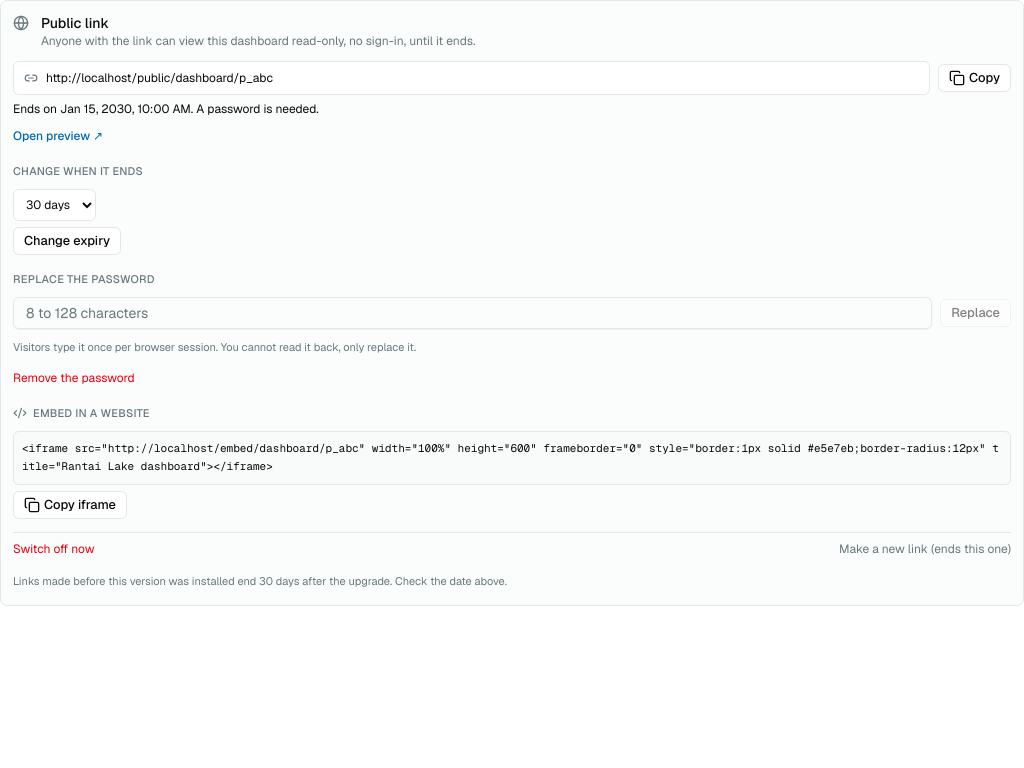
PublicLinkPanel › removes the password with null and keeps the link's own end
Step 1. Click the button "Remove the password" → coordinates (74, 378), box [13,370,135,386]
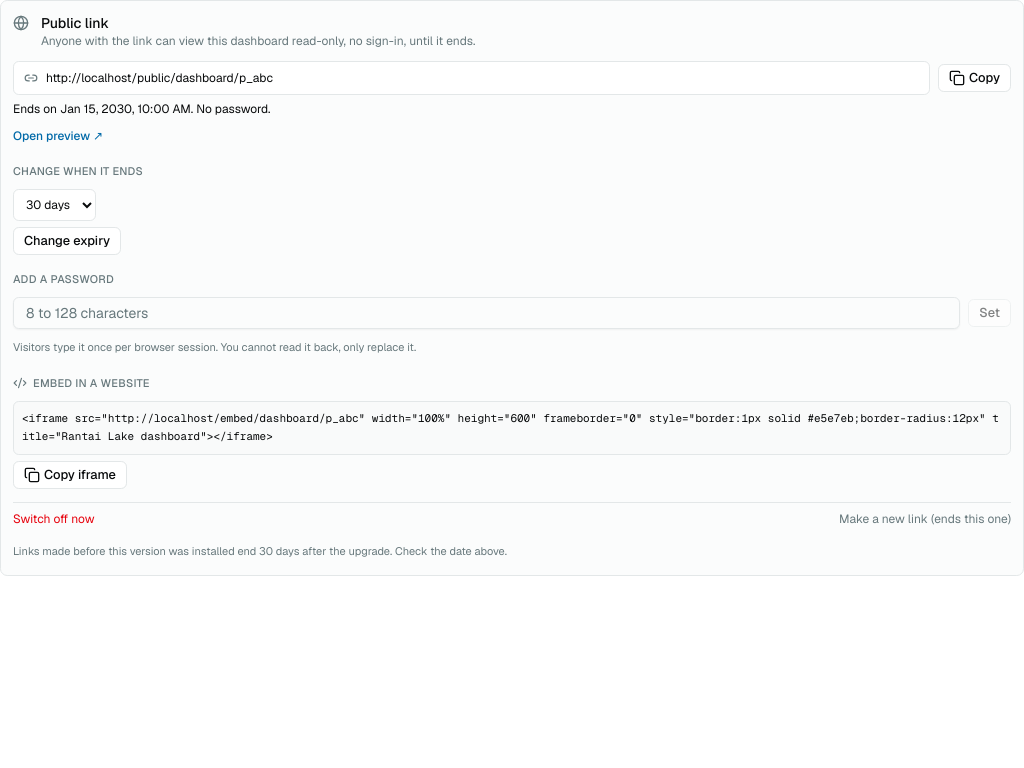
Check: the text "Ends on Jan 15, 2030, 10:00 AM. No password." is shown, box [13,101,270,117]
